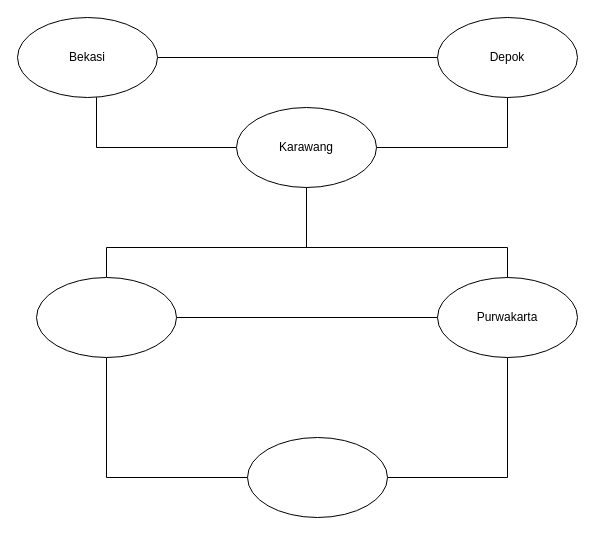
The diagram is 595 pixels wide and 535 high, and some of its shapes have lost their labels. The shapes that lost their labels are listed below. From the top down, each one's box as (x1, y1, x2, y2) in pixels, then its label:
(36, 276, 176, 358): Subang
(246, 436, 388, 518): Cirebon
